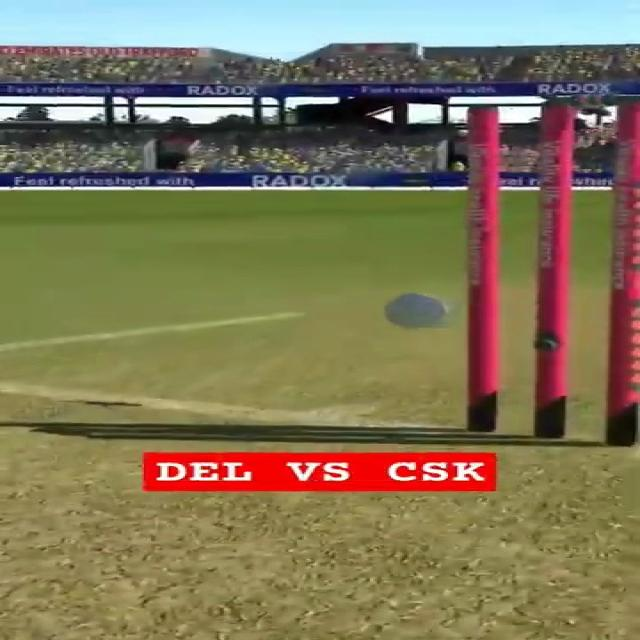ball: (379, 290, 452, 330)
